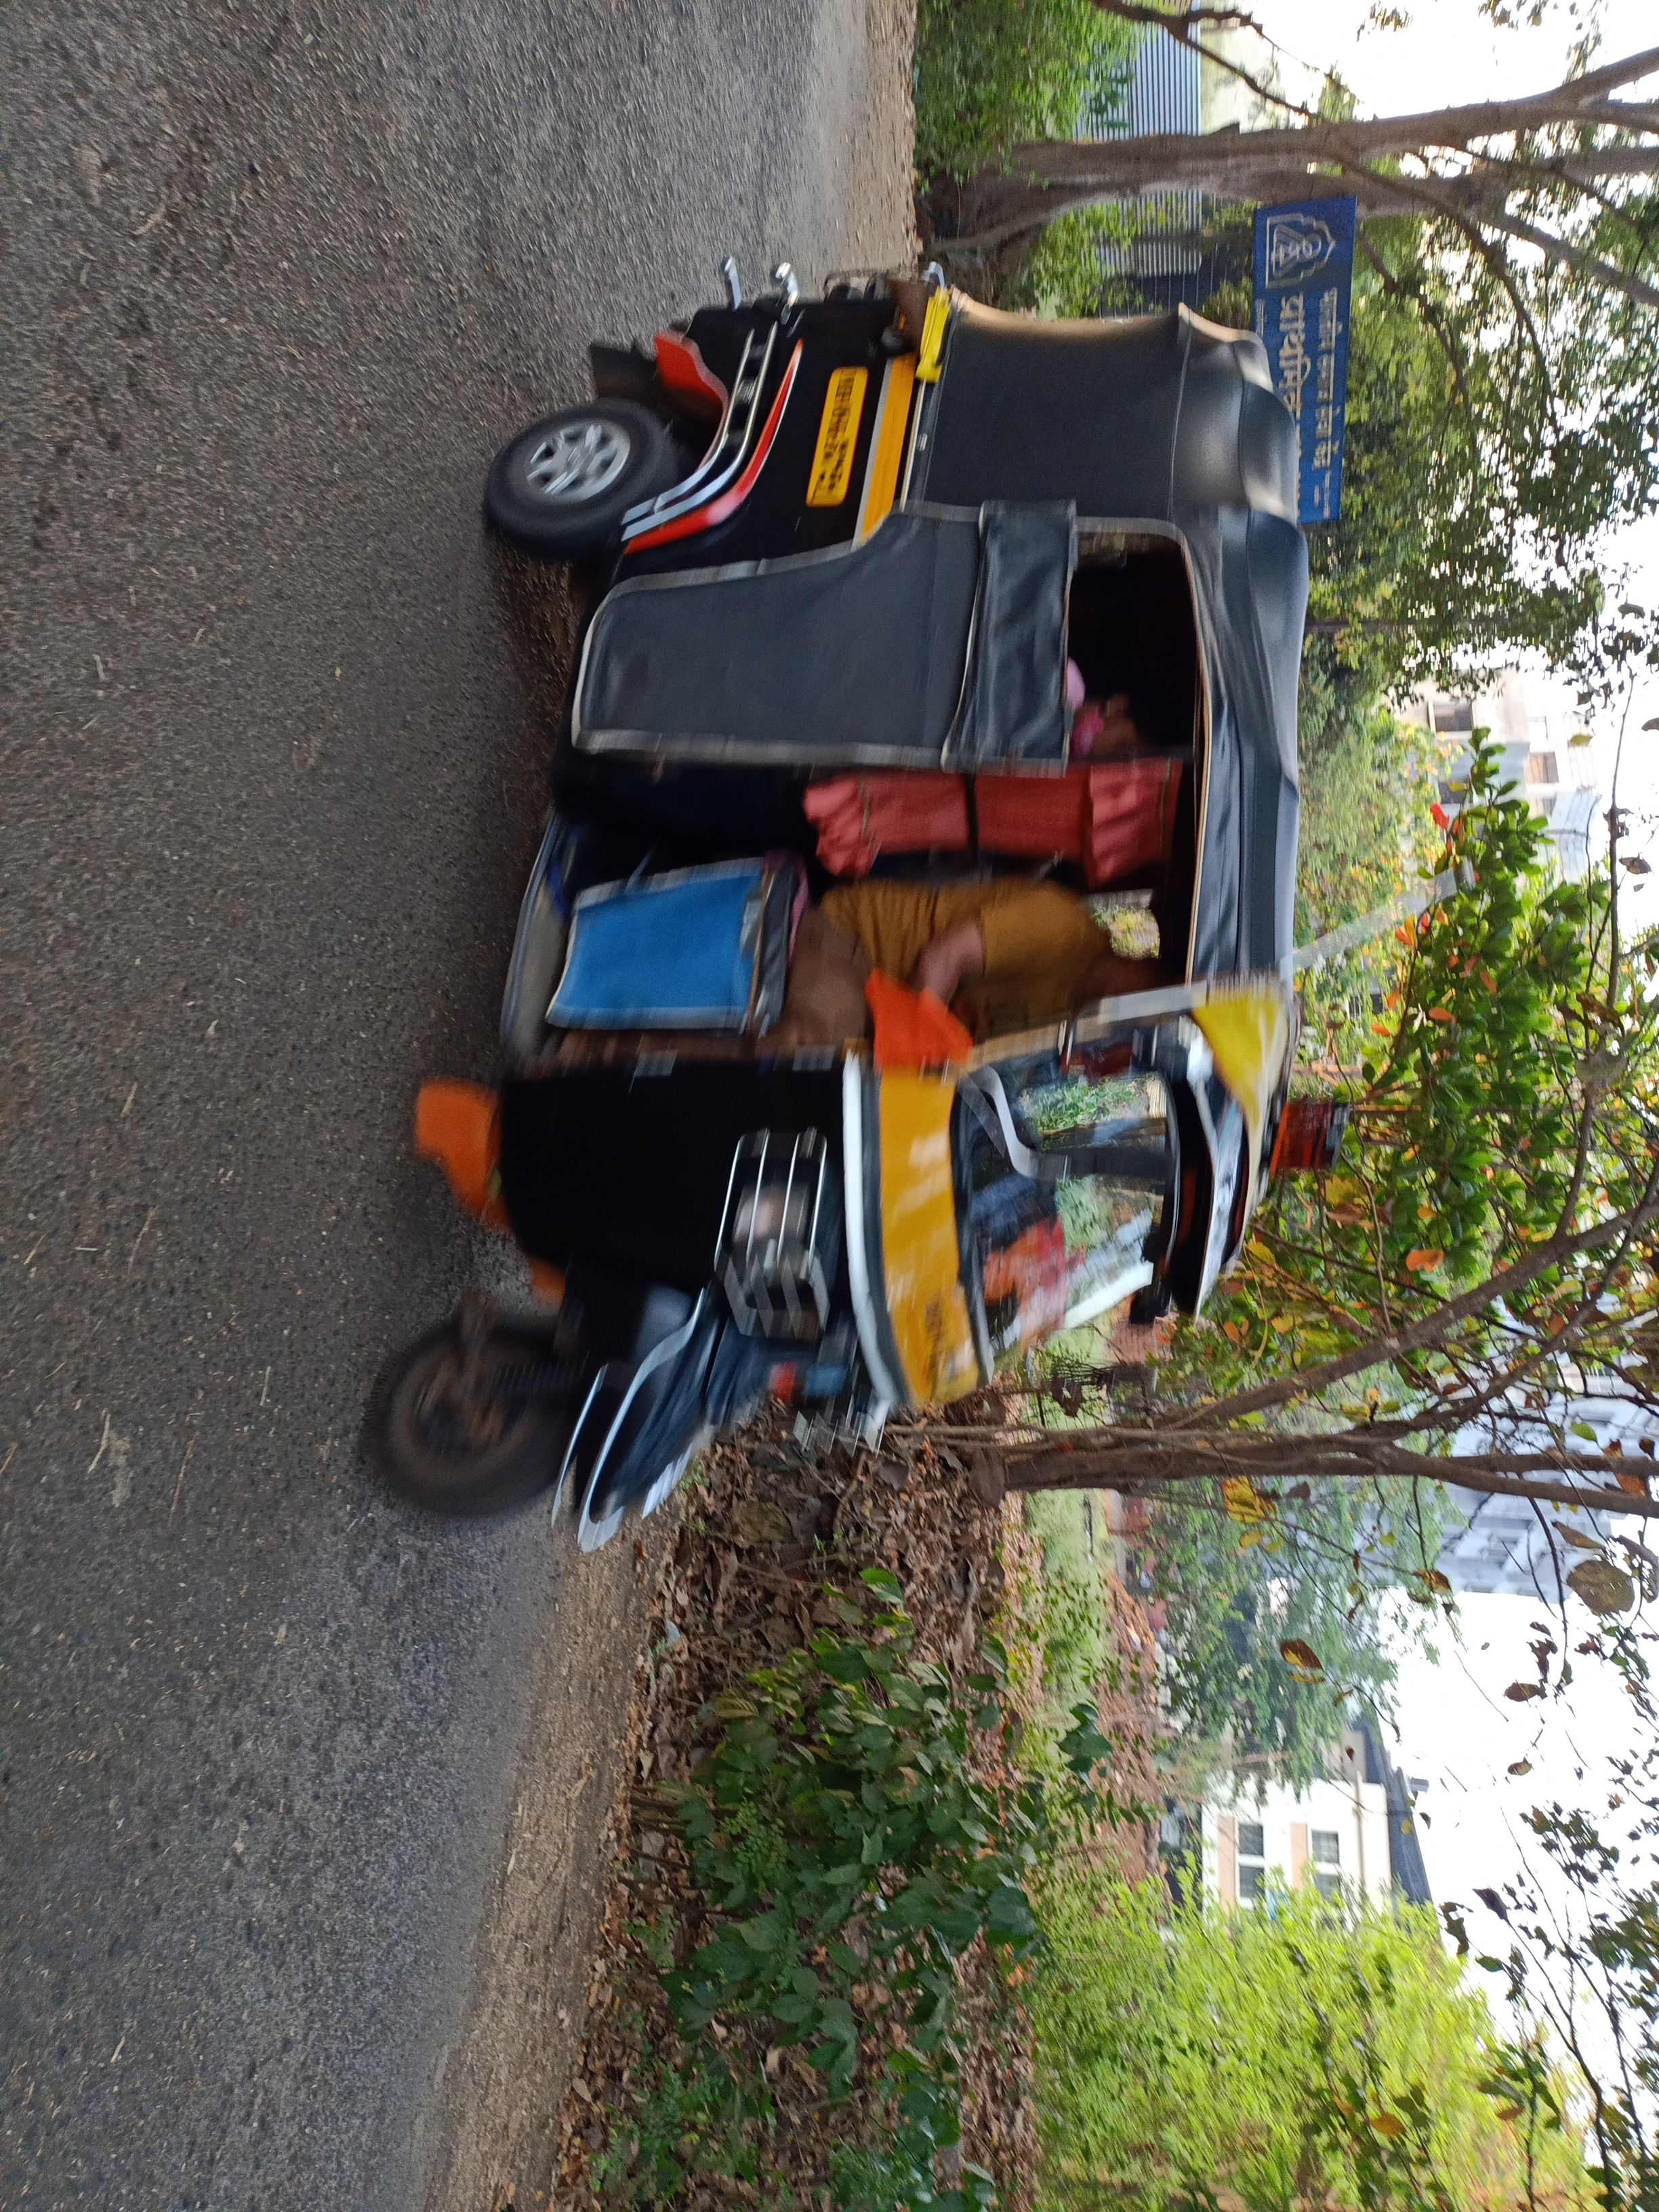auto: (368, 260, 1307, 1555)
